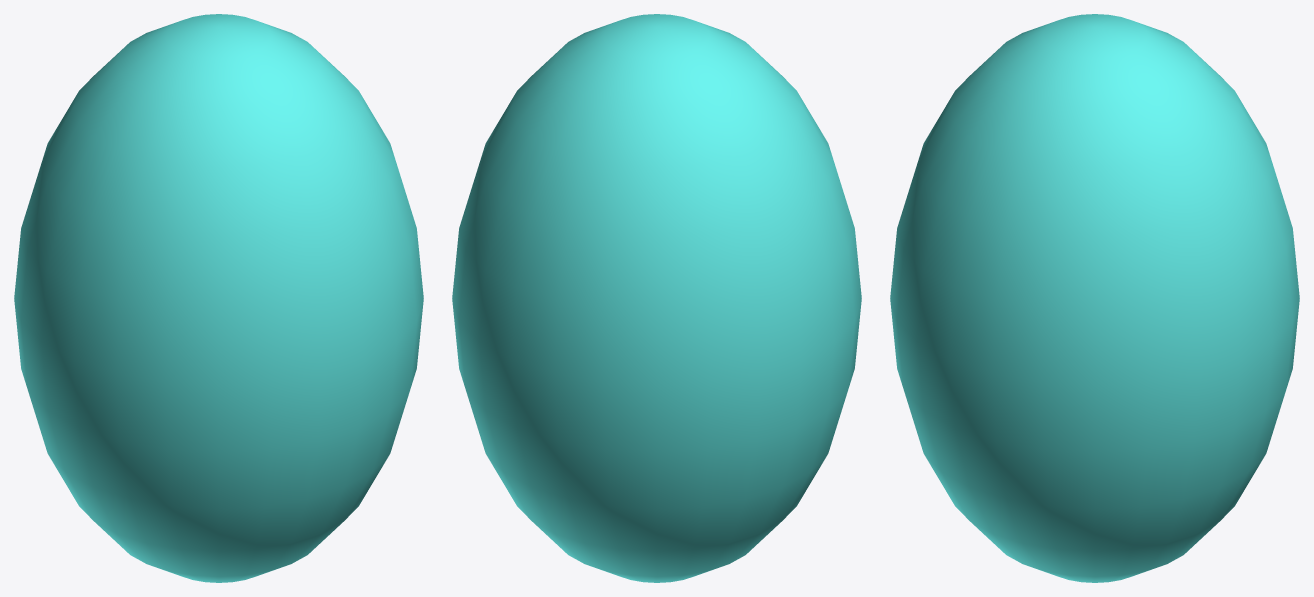
File: bolt.glb
3 renders of one model, left to right at view 1: azimuth 30°, elevation 25°; view 2: azimuth 150°, elevation 25°; view 3: azimuth 270°, elevation 25°, orthographic.
Parts seen in each view (by area): view 1: bolt; view 2: bolt; view 3: bolt.
Boxes of the visible parts, x1=… form: bolt: x1=14, y1=14, x2=423, y2=582; bolt: x1=452, y1=14, x2=861, y2=582; bolt: x1=890, y1=14, x2=1299, y2=582.
Size of the model in its own units: 0.26 by 0.38 by 0.26.
